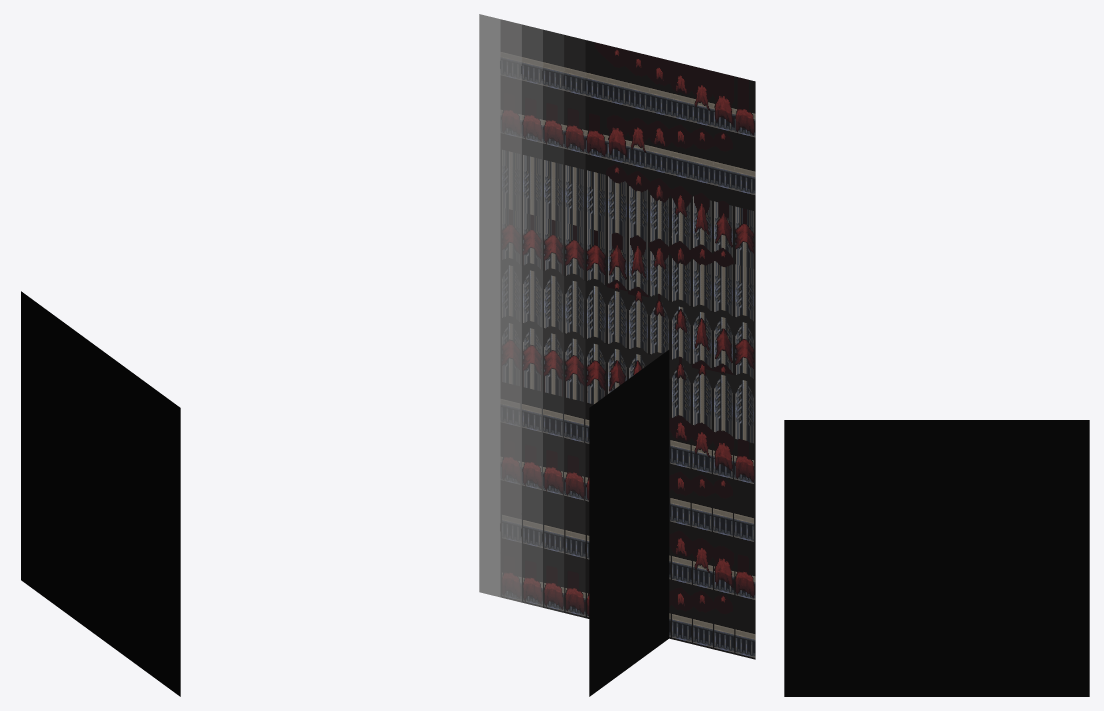
The model's file is Cell_Bars_V_01.glb.
The picture shows the model from 3 angles, left to right: view 1: azimuth 30°, elevation 25°; view 2: azimuth 150°, elevation 25°; view 3: azimuth 270°, elevation 25°; orthographic projection. The views are drawn at different scales.
Parts seen in each view (by area): view 1: Shadows; view 2: Renderer, Shadows, BlockShadows; view 3: Shadows, BlockShadows.
Part boxes in pixels (x1,y1,x2,y2): Shadows: [21, 291, 180, 696]; Renderer: [479, 14, 755, 659]; Shadows: [589, 349, 669, 696]; BlockShadows: [645, 536, 668, 649]; Shadows: [784, 420, 1089, 696]; BlockShadows: [784, 420, 1089, 666].
Bounding box in the file's own units: 1 × 2 × 1.
3 materials, 3 textured.
